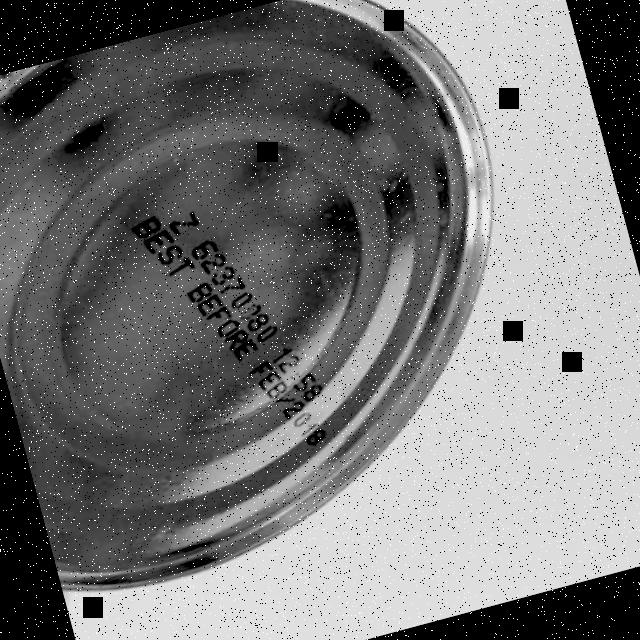can: (0, 0, 584, 607)
